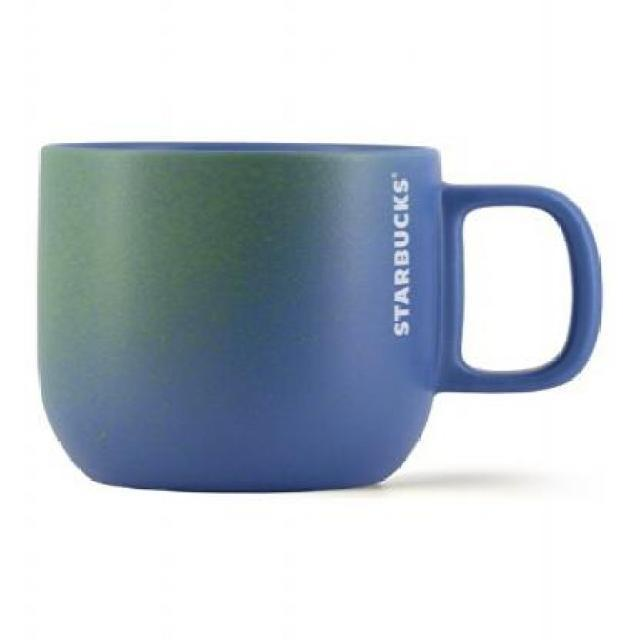taza: (41, 142, 604, 495)
